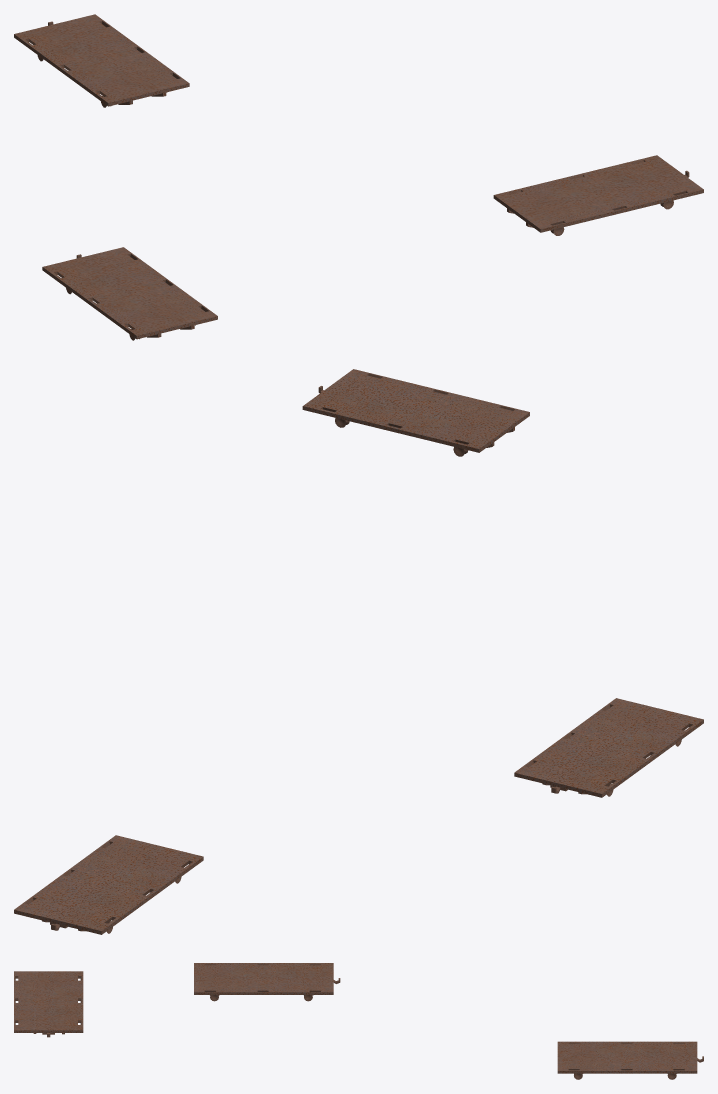
Rendered from SM_Scene_A_Carts00.fbx.
3 renders of one model, top to bottom at view 1: azimuth 30°, elevation 25°; view 2: azimuth 150°, elevation 25°; view 3: azimuth 270°, elevation 25°, orthographic. The views are drawn at different scales.
Parts seen in each view (by area): view 1: SM_Scene_A_Carts00; view 2: SM_Scene_A_Carts00; view 3: SM_Scene_A_Carts00.
Boxes of the visible parts, <box> form: SM_Scene_A_Carts00: <box>14,14,703,340</box>; SM_Scene_A_Carts00: <box>14,369,703,934</box>; SM_Scene_A_Carts00: <box>14,963,703,1079</box>.
Size of the model in its own units: 3020 by 913 by 5374.
